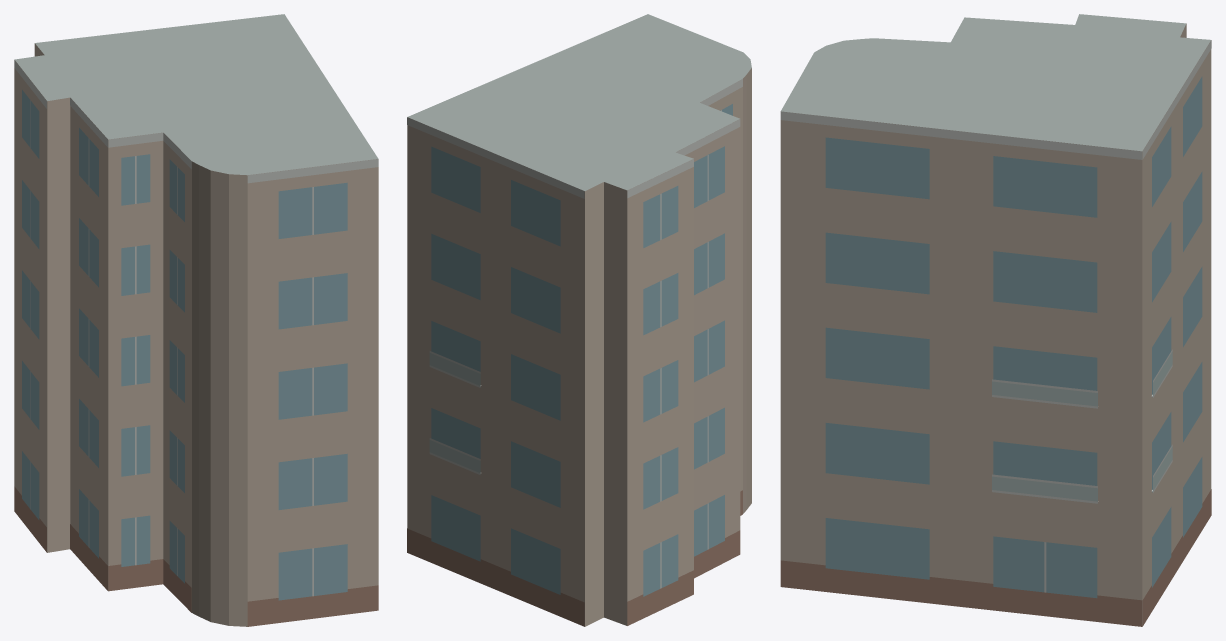
File: survey-upis-32961370.glb
3 views of the same model, side by side, from view 1: azimuth 30°, elevation 25°; view 2: azimuth 150°, elevation 25°; view 3: azimuth 270°, elevation 25° (orthographic). The views are drawn at different scales.
Visible parts, largest first — view 1: survey-upis-32961370.tmp; view 2: survey-upis-32961370.tmp; view 3: survey-upis-32961370.tmp.
Part boxes in pixels (<box>): survey-upis-32961370.tmp: <box>14,14,378,626</box>; survey-upis-32961370.tmp: <box>407,14,751,626</box>; survey-upis-32961370.tmp: <box>780,14,1211,626</box>.
Bounding box in the file's own units: 8.31 × 13.4 × 11.01.
